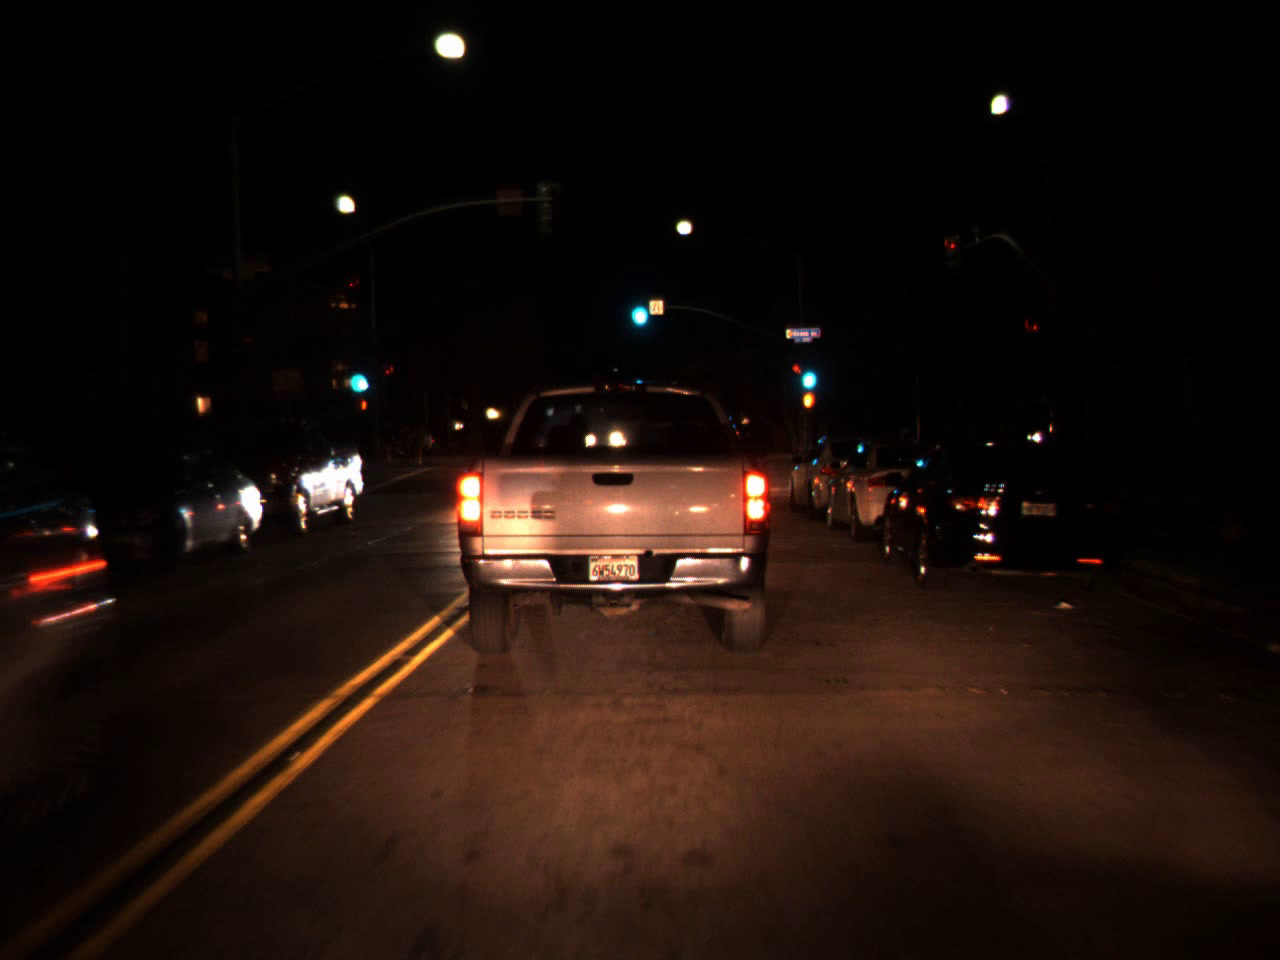go: (624, 284, 651, 332), (345, 351, 370, 399), (796, 350, 819, 395)
